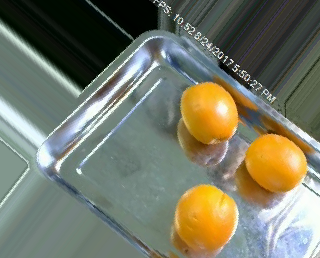Orange: (174, 183, 238, 250), (244, 132, 307, 192), (180, 80, 238, 144)
